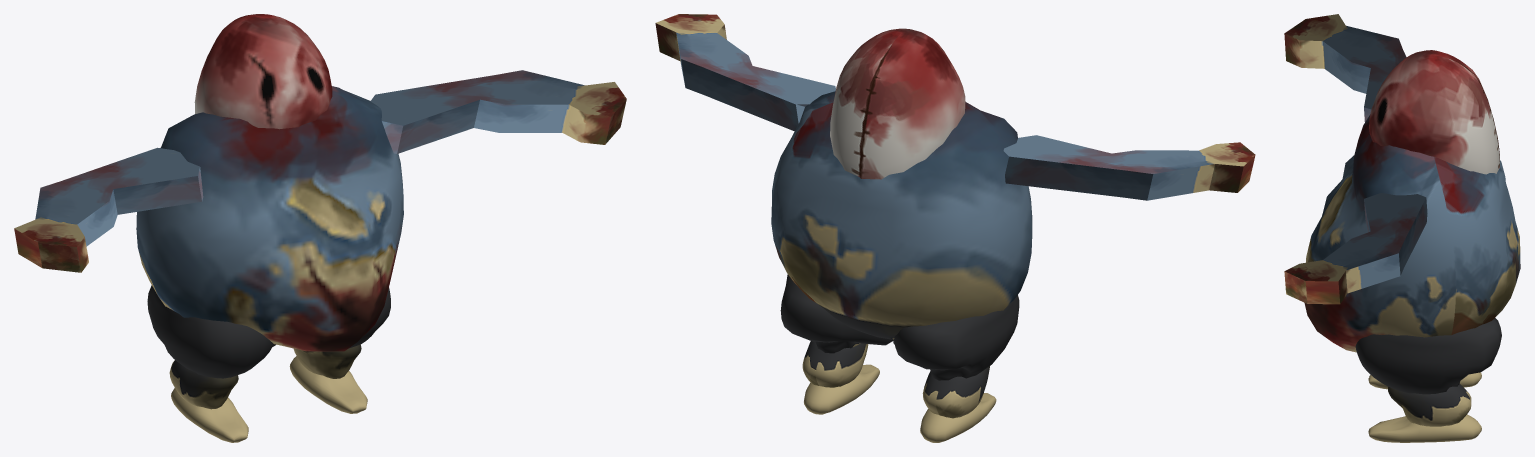
Rendered from Zombie.fbx.
The picture shows the model from 3 angles, left to right: view 1: azimuth 30°, elevation 25°; view 2: azimuth 150°, elevation 25°; view 3: azimuth 270°, elevation 25°; orthographic projection. The views are drawn at different scales.
Visible parts, largest first — view 1: polySurface19; view 2: polySurface19; view 3: polySurface19.
Part boxes in pixels (x1,y1,x2,y2): polySurface19: (14,14,626,442); polySurface19: (655,14,1255,442); polySurface19: (1284,14,1520,442).
Size of the model in its own units: 15.25 by 9.49 by 5.69.
